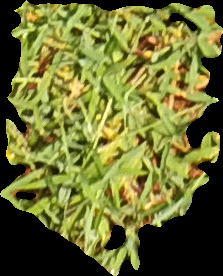grass: (1, 1, 222, 275)
